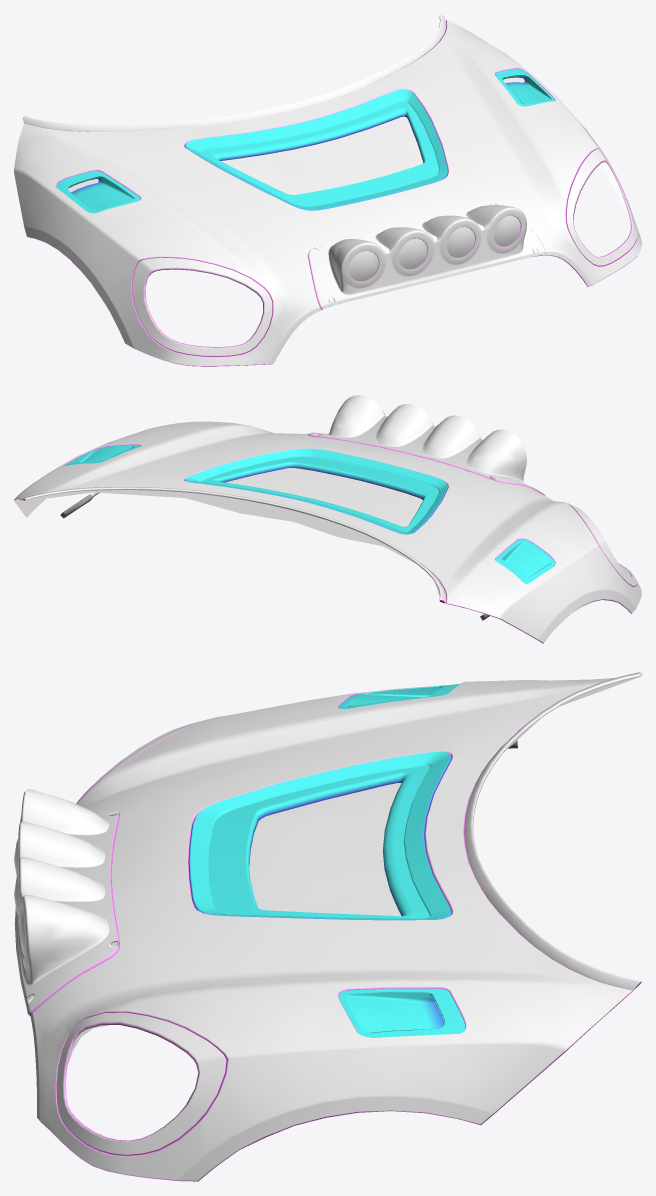
File: Car_Mini_CountrymanJCW_2017_Hood_SetE_AltB.fbx
3 views of the same model, one above another, from view 1: azimuth 30°, elevation 25°; view 2: azimuth 150°, elevation 25°; view 3: azimuth 270°, elevation 25° (orthographic). The views are drawn at different scales.
Visible parts, largest first — view 1: Hood 6; view 2: Hood 6; view 3: Hood 6.
Part boxes in pixels (x1,y1,x2,y2): Hood 6: (14, 14, 641, 366); Hood 6: (14, 395, 641, 643); Hood 6: (14, 672, 641, 1181).
Size of the model in its own units: 1.78 by 0.3864 by 1.23.
